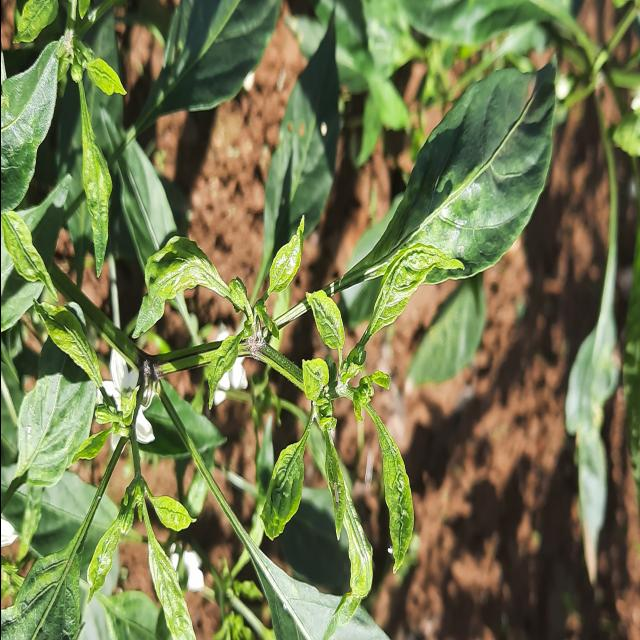thrips: (366, 219, 466, 339), (254, 424, 310, 552), (304, 264, 349, 370)
